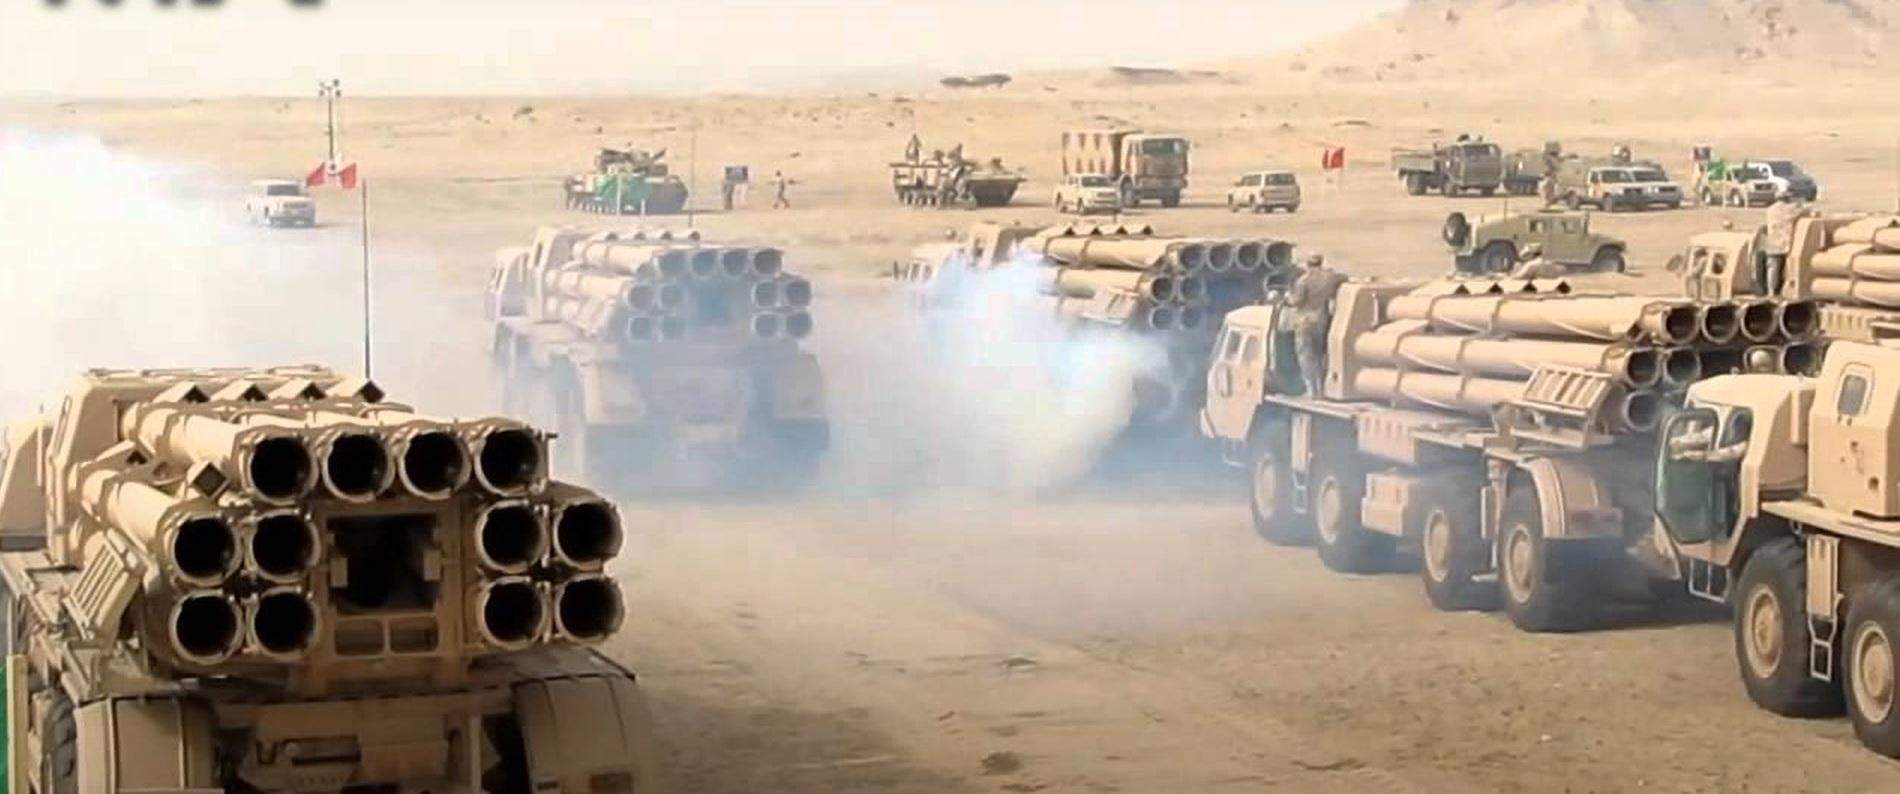MIL_SAM_TEL: (0, 341, 636, 794), (1197, 298, 1819, 636), (465, 233, 851, 498), (903, 227, 1288, 438), (1672, 212, 1900, 318)
